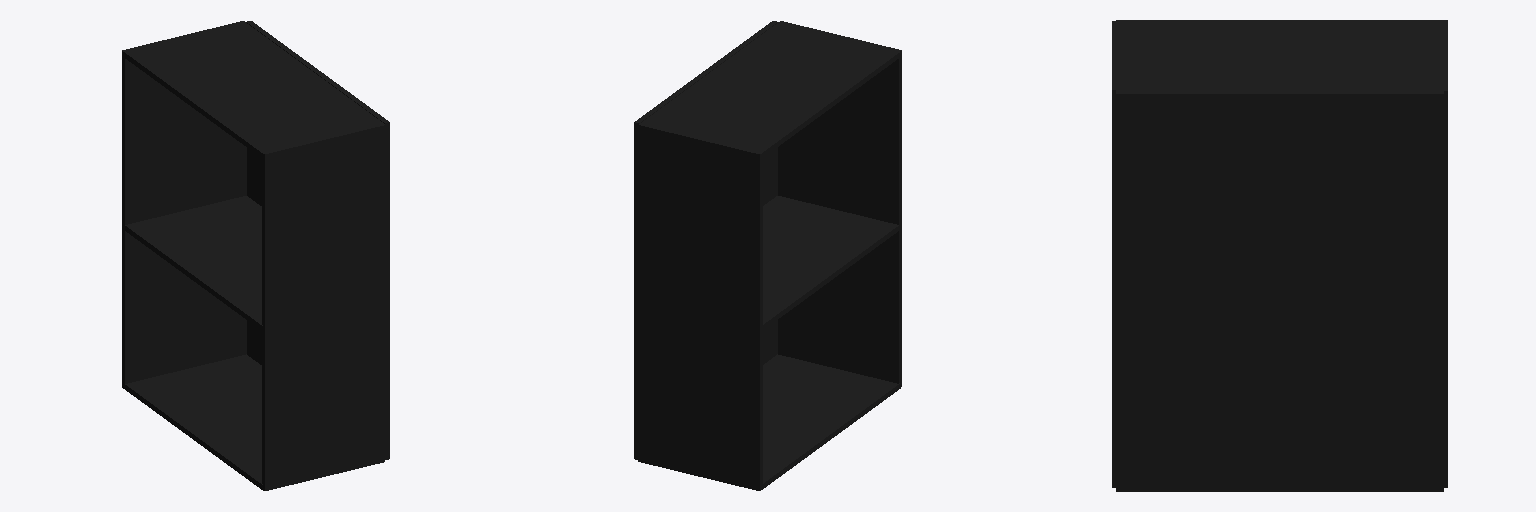
robot.urdf — cabinet_model:
<robot name="cabinet_model">
  <material name="brown"><color rgba="0.15 0.15 0.15 1"/></material>
  <link name="cabinet_bottom_plate">
    <inertial>
      <mass value="20.0" />
      <origin xyz="0 0 -1.0" /> 
      <inertia  ixx="2" ixy="0.0"  ixz="0.0"  iyy="2"  iyz="0.0"  izz="2" />
    </inertial>
    <visual>
      <origin xyz="0 0 0.01" rpy="0 0 0" />
      <geometry>
        <box size="0.465 0.92 0.020"/>
      </geometry>
      <material name="brown"/>
    </visual>
    <collision>
      <origin xyz="0 0 0.01" rpy="0 0 0" />
      <geometry>
        <box size="0.465 0.92 0.020"/>
      </geometry>
    </collision>
  </link>
  <link name="cabinet_middle_plate">
    <inertial>
      <mass value="1.0" />
      <origin xyz="0 0 0.0" /> 
      <inertia  ixx="0.01" ixy="0.0"  ixz="0.0"  iyy="0.01"  iyz="0.0"  izz="0.01" />
    </inertial>
    <visual>
      <origin xyz="0 0 0.59" rpy="0 0 0" />
      <geometry>
        <box size="0.465 0.92 0.020"/>
      </geometry>
      <material name="brown"/>
    </visual>
    <collision>
      <origin xyz="0 0 0.59" rpy="0 0 0" />
      <geometry>
        <box size="0.465 0.92 0.020"/>
      </geometry>
    </collision>
  </link>
  <link name="cabinet_top_plate">
    <inertial>
      <mass value="1.0" />
      <origin xyz="0 0 0.0" /> 
      <inertia  ixx="0.01" ixy="0.0"  ixz="0.0"  iyy="0.01"  iyz="0.0"  izz="0.01" />
    </inertial>
    <visual>
      <origin xyz="0 0 1.220" rpy="0 0 0" />
      <geometry>
        <box size="0.465 0.92 0.020"/>
      </geometry>
      <material name="brown"/>
    </visual>
    <collision>
      <origin xyz="0 0 1.220" rpy="0 0 0" />
      <geometry>
        <box size="0.465 0.92 0.020"/>
      </geometry>
    </collision>
  </link>
  <link name="cabinet_left_plate">
    <inertial>
      <mass value="1.0" />
      <origin xyz="0 0 0.0" /> 
      <inertia  ixx="0.01" ixy="0.0"  ixz="0.0"  iyy="0.01"  iyz="0.0"  izz="0.01" />
    </inertial>
    <visual>
      <origin xyz="0 0.461 0.615" rpy="0 0 0" />
      <geometry>
        <box size="0.465 0.02 1.230"/>
      </geometry>
      <material name="brown"/>
    </visual>
    <collision>
      <origin xyz="0 0.461 0.615" rpy="0 0 0" />
      <geometry>
        <box size="0.465 0.02 1.230"/>
      </geometry>
    </collision>
  </link>
  <link name="cabinet_right_plate">
    <inertial>
      <mass value="1.0" />
      <origin xyz="0 0 0.0" /> 
      <inertia  ixx="0.01" ixy="0.0"  ixz="0.0"  iyy="0.01"  iyz="0.0"  izz="0.01" />
    </inertial>
    <visual>
      <origin xyz="0 -0.461 0.615" rpy="0 0 0" />
      <geometry>
        <box size="0.461 0.02 1.230"/>
      </geometry>
      <material name="brown"/>
    </visual>
    <collision>
      <origin xyz="0 -0.541 0.615" rpy="0 0 0" />
      <geometry>
        <box size="0.465 0.02 1.230"/>
      </geometry>
    </collision>
  </link>
  <link name="cabinet_back_plate">
    <inertial>
      <mass value="1.0" />
      <origin xyz="0 0 -5" /> 
      <inertia  ixx="0.01" ixy="0.0"  ixz="0.0"  iyy="0.01"  iyz="0.0"  izz="0.01" />
    </inertial>
    <visual>
      <origin xyz="0.245 0 0.615" rpy="0 0 0" />
      <geometry>
        <box size="0.02 0.920 1.23"/>
      </geometry>
      <material name="brown"/>
    </visual>
    <collision>
      <origin xyz="0.245 0 0.615" rpy="0 0 0" />
      <geometry>
        <box size="0.02 0.920 1.23"/>
      </geometry>
    </collision>
  </link>
  <joint name="middle_plate" type="fixed">
    <parent link="cabinet_bottom_plate"/>
    <child link="cabinet_middle_plate"/>
    <origin xyz="0 0 0"/>
  </joint>
  <joint name="top_plate" type="fixed">
    <parent link="cabinet_bottom_plate"/>
    <child link="cabinet_top_plate"/>
    <origin xyz="0 0 0"/>
  </joint>
  <joint name="left_plate" type="fixed">
    <parent link="cabinet_bottom_plate"/>
    <child link="cabinet_left_plate"/>
    <origin xyz="0 0 0"/>
  </joint>
  <joint name="right_plate" type="fixed">
    <parent link="cabinet_bottom_plate"/>
    <child link="cabinet_right_plate"/>
    <origin xyz="0 0 0"/>
  </joint>
  <joint name="back_plate" type="fixed">
    <parent link="cabinet_bottom_plate"/>
    <child link="cabinet_back_plate"/>
    <origin xyz="0 0 0"/>
  </joint>
  <gazebo reference="cabinet_bottom_plate">
    <mu1>100.0</mu1>
    <mu2>100.0</mu2>
  </gazebo>
  <gazebo>
    <static>true</static>
  </gazebo>
</robot>

--- Render facts (derived) ---
Views: 3 orthographic renders of the robot side by side, from view 1: azimuth 30°, elevation 25°; view 2: azimuth 150°, elevation 25°; view 3: azimuth 270°, elevation 25°.
Robot: cabinet_model — 6 links, 5 joints (5 fixed); root link cabinet_bottom_plate; default pose: all joints at 0.
Links seen in each view (by area): view 1: cabinet_right_plate, cabinet_left_plate, cabinet_top_plate, cabinet_bottom_plate, cabinet_middle_plate, cabinet_back_plate; view 2: cabinet_left_plate, cabinet_right_plate, cabinet_top_plate, cabinet_bottom_plate, cabinet_middle_plate, cabinet_back_plate; view 3: cabinet_back_plate, cabinet_top_plate, cabinet_left_plate, cabinet_right_plate.
Link boxes in pixels (x1=…): cabinet_right_plate: x1=262, y1=123, x2=384, y2=490; cabinet_left_plate: x1=122, y1=21, x2=246, y2=388; cabinet_top_plate: x1=124, y1=22, x2=383, y2=158; cabinet_bottom_plate: x1=125, y1=354, x2=262, y2=489; cabinet_middle_plate: x1=125, y1=196, x2=262, y2=330; cabinet_back_plate: x1=246, y1=21, x2=389, y2=459; cabinet_left_plate: x1=638, y1=123, x2=762, y2=490; cabinet_right_plate: x1=778, y1=21, x2=901, y2=386; cabinet_top_plate: x1=640, y1=22, x2=900, y2=157; cabinet_bottom_plate: x1=763, y1=354, x2=900, y2=488; cabinet_middle_plate: x1=763, y1=196, x2=900, y2=329; cabinet_back_plate: x1=634, y1=21, x2=777, y2=459; cabinet_back_plate: x1=1116, y1=91, x2=1443, y2=491; cabinet_top_plate: x1=1116, y1=20, x2=1443, y2=90; cabinet_left_plate: x1=1441, y1=20, x2=1447, y2=487; cabinet_right_plate: x1=1112, y1=21, x2=1118, y2=487.
Size in the robot's own frame: 0.4875 by 0.942 by 1.23 metres.
Geometry: primitives only (box / cylinder / sphere), no mesh files.